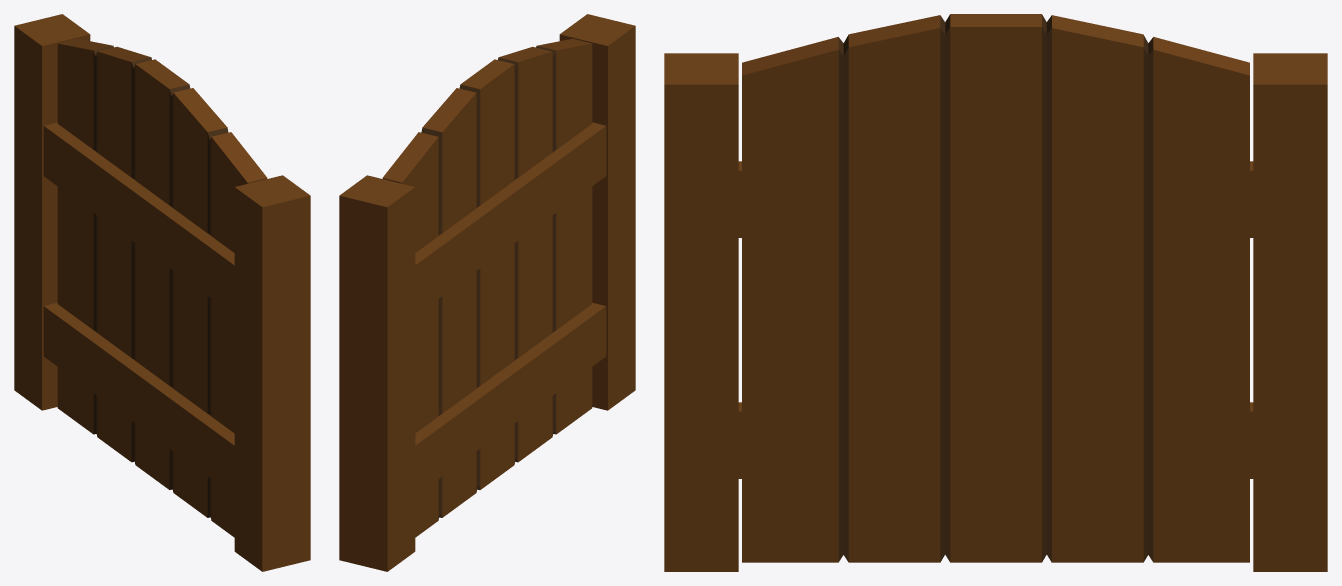
Rendered from Fence_WicketUV.fbx.
The picture shows the model from 3 angles, left to right: view 1: azimuth 30°, elevation 25°; view 2: azimuth 150°, elevation 25°; view 3: azimuth 270°, elevation 25°; orthographic projection. The views are drawn at different scales.
Parts seen in each view (by area): view 1: Cube; view 2: Cube; view 3: Cube.
Boxes of the visible parts, x1,y1,x2,y2 form: Cube: [14, 14, 310, 571]; Cube: [339, 14, 635, 571]; Cube: [664, 14, 1327, 571].
Bounding box in the file's own units: 15 × 119 × 134.
